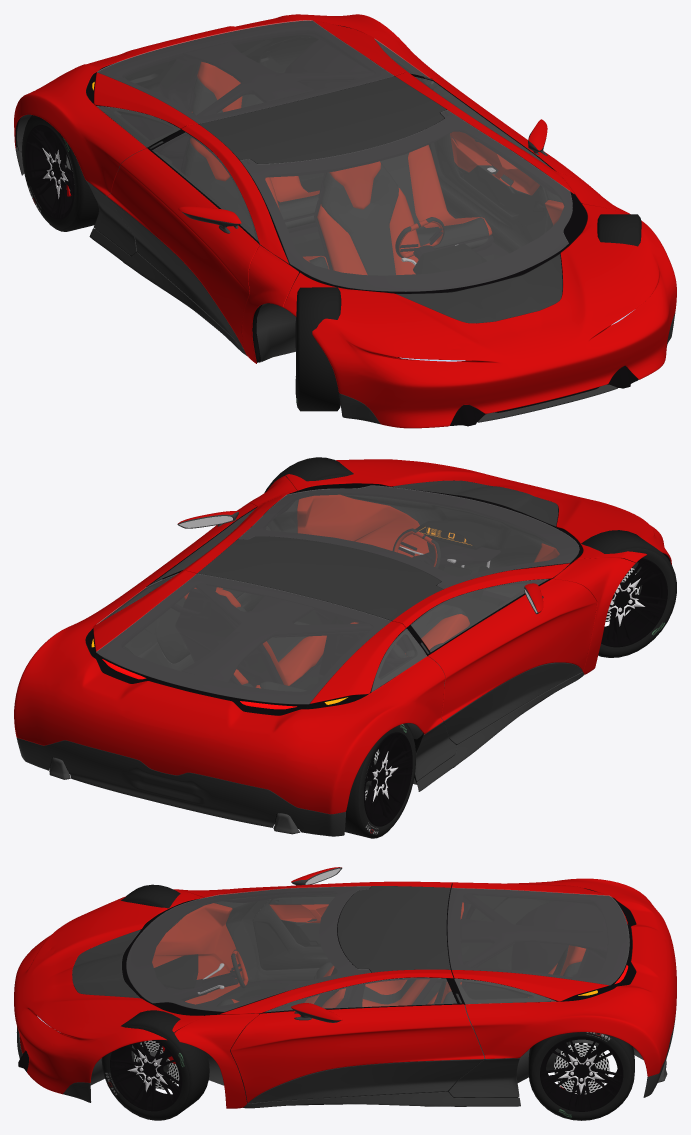
The model's file is Hyper.glb.
3 views of the same model, one above another, from view 1: azimuth 30°, elevation 25°; view 2: azimuth 150°, elevation 25°; view 3: azimuth 270°, elevation 25° (orthographic). The views are drawn at different scales.
Parts seen in each view (by area): view 1: BodyHood, BodyWindshield, BodyRearwindow, BodyRearPanelsColor1, BodyRoofPanel, BodyWindshieldGasket, BodyDoorRColor1, InteriorSeatsColor2, InteriorSeatsColor1, BodyPillars, InteriorPillar, InteriorRearHatch (+24 smaller); view 2: BodyRearPanelsColor1, BodyRearwindow, BodyWindshield, BodyPanelsColor2, BodyDoorRColor1, BodyRoofPanel, BodyHood, InteriorRearHatch, BodyWindshieldGasket, BodyPillars, InteriorPillar, InteriorDashSides (+25 smaller); view 3: BodyWindshield, BodyRearPanelsColor1, BodyHood, BodyRearwindow, BodyDoorLColor1, BodyRoofPanel, BodyWindshieldGasket, BodyPillars, BodyDoorLColor2, BodyPanelsColor2, InteriorRearHatch, InteriorFloor (+28 smaller).
Part boxes in pixels (<box>): BodyHood: <box>283,204,676,428</box>; BodyWindshield: <box>240,110,572,291</box>; BodyRearwindow: <box>97,20,393,123</box>; BodyRearPanelsColor1: <box>14,14,445,195</box>; BodyRoofPanel: <box>199,76,446,163</box>; BodyWindshieldGasket: <box>240,110,587,293</box>; BodyDoorRColor1: <box>107,148,259,348</box>; InteriorSeatsColor2: <box>184,77,488,275</box>; InteriorSeatsColor1: <box>190,61,492,275</box>; BodyPillars: <box>181,72,630,363</box>; InteriorPillar: <box>158,41,449,257</box>; InteriorRearHatch: <box>96,21,395,128</box>; BodyRearPanelsColor1: <box>14,570,445,814</box>; BodyRearwindow: <box>96,574,390,703</box>; BodyWindshield: <box>238,485,579,588</box>; BodyPanelsColor2: <box>16,672,584,836</box>; BodyDoorRColor1: <box>428,578,596,720</box>; BodyRoofPanel: <box>197,536,442,620</box>; BodyHood: <box>285,459,671,564</box>; InteriorRearHatch: <box>97,574,402,706</box>; BodyWindshieldGasket: <box>239,484,583,589</box>; BodyPillars: <box>180,476,635,674</box>; InteriorPillar: <box>181,574,438,682</box>; InteriorDashSides: <box>289,480,577,584</box>; BodyWindshield: <box>126,886,370,1011</box>; BodyRearPanelsColor1: <box>451,878,676,1076</box>; BodyHood: <box>14,889,203,1094</box>; BodyRearwindow: <box>447,888,629,985</box>; BodyDoorLColor1: <box>230,1004,484,1102</box>; BodyRoofPanel: <box>337,886,450,972</box>; BodyWindshieldGasket: <box>122,886,370,1015</box>; BodyPillars: <box>174,881,453,1108</box>; BodyDoorLColor2: <box>248,1059,484,1103</box>; BodyPanelsColor2: <box>16,1010,676,1108</box>; InteriorRearHatch: <box>447,888,628,1001</box>; InteriorFloor: <box>19,901,607,1105</box>.
Bounding box in the file's own units: 2.74 × 0.9884 × 4.79.
22 materials, 5 textured.
